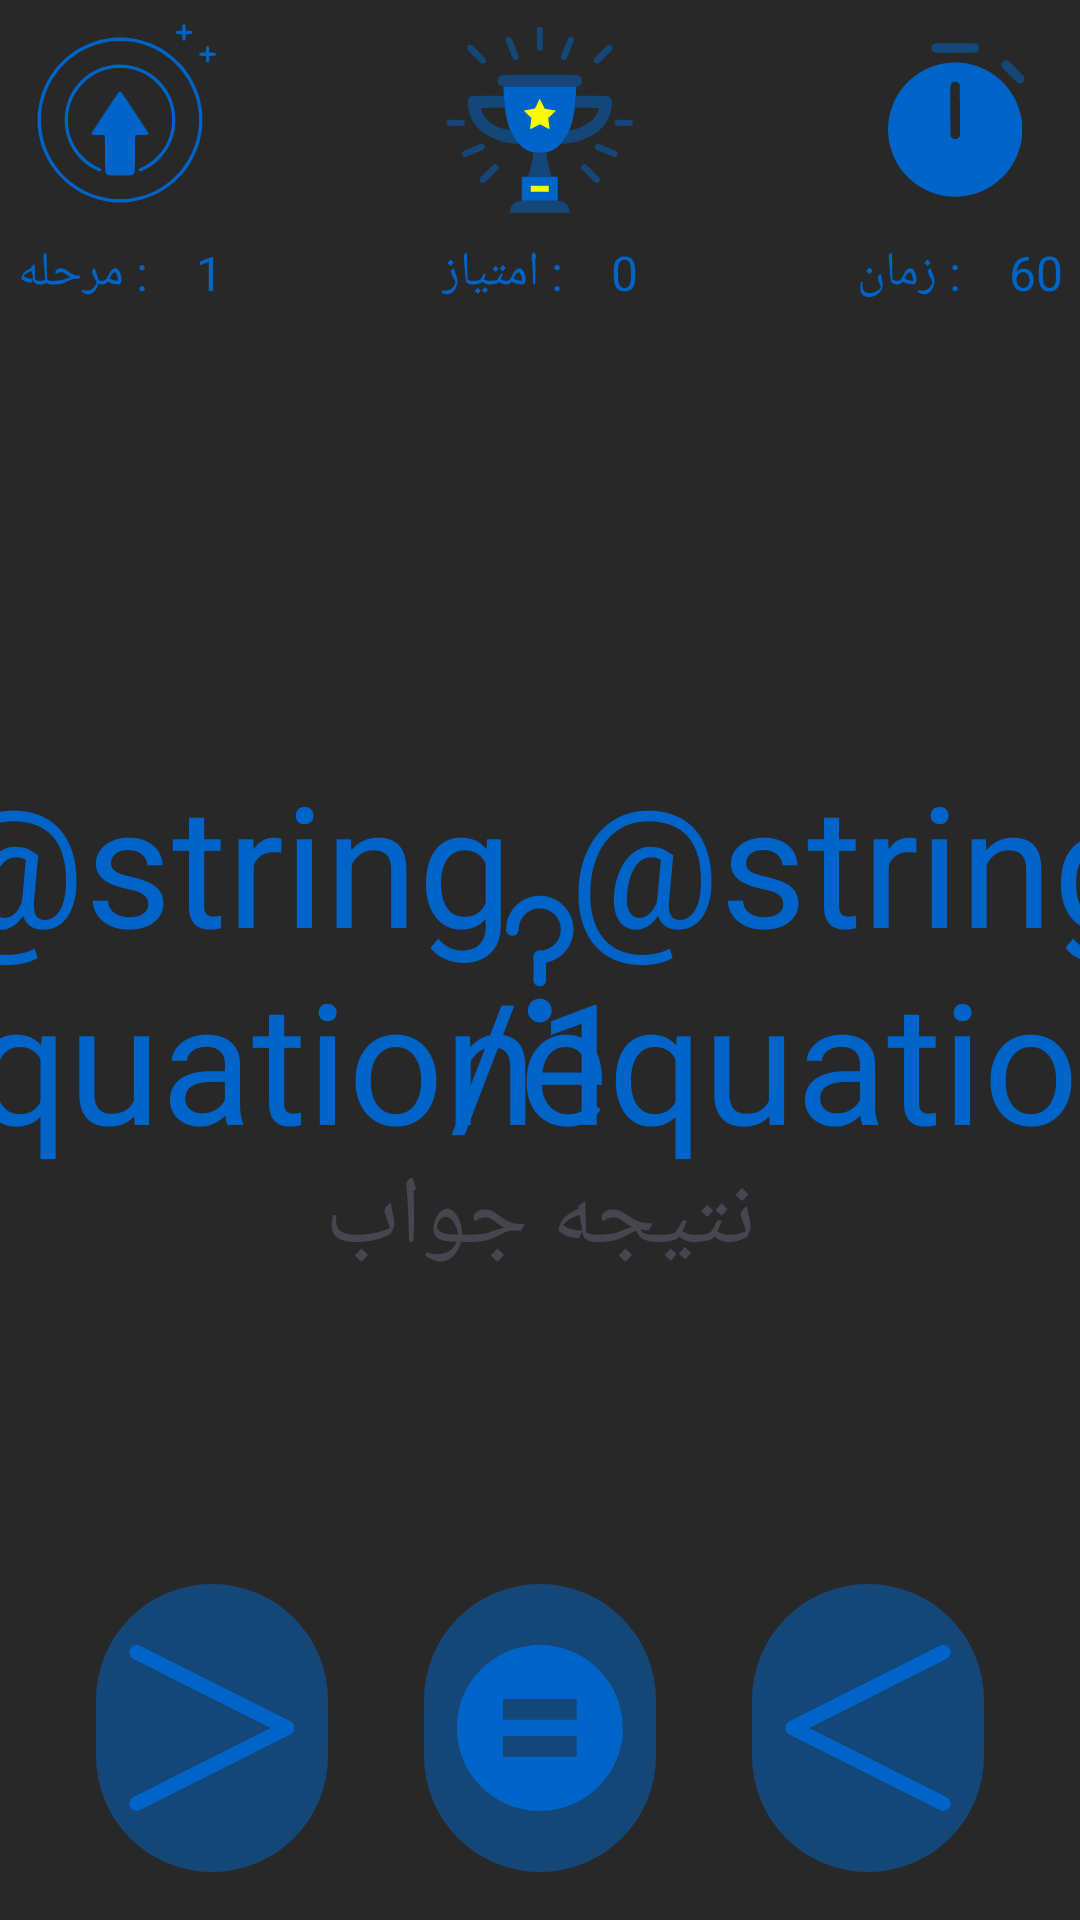

Icon bounding boxes for this 1080px×1920px phone screenshot, format region(x1, y1, x2, y2):
Greater Than: region(96, 1584, 328, 1872)
Less Than: region(752, 1584, 984, 1872)
Level: region(37, 24, 216, 203)
Timer: region(888, 43, 1024, 197)
برابر: region(424, 1584, 656, 1872)
